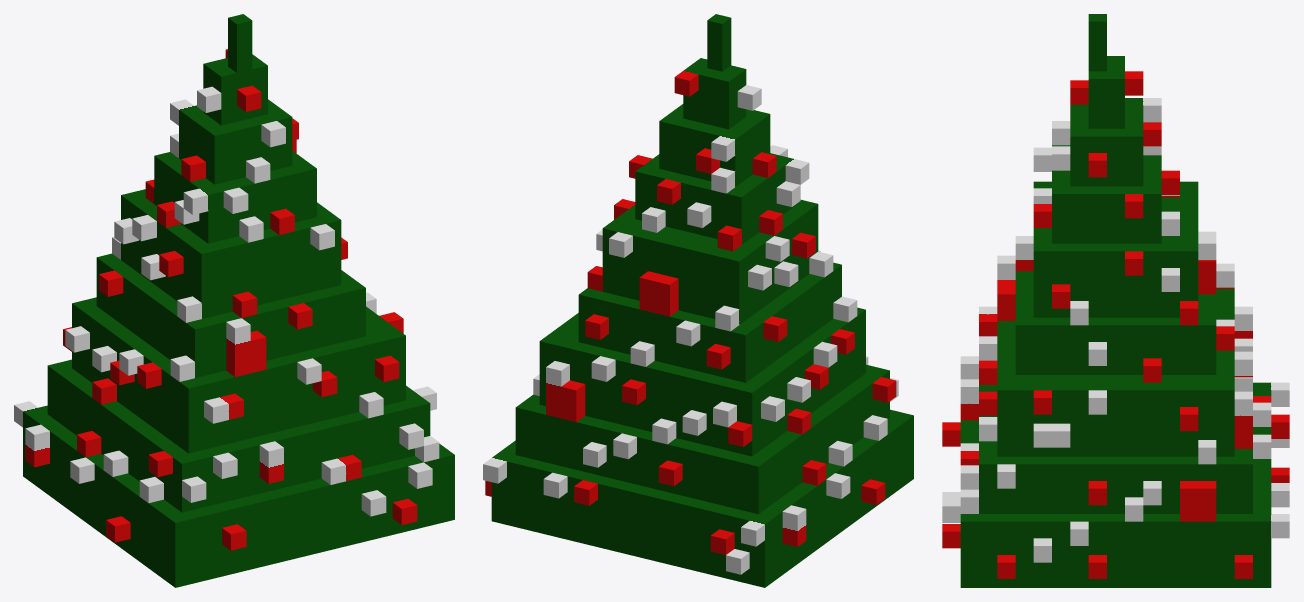
The model's file is obj_christmas1.fbx.
3 views of the same model, side by side, from view 1: azimuth 30°, elevation 25°; view 2: azimuth 150°, elevation 25°; view 3: azimuth 270°, elevation 25° (orthographic). The views are drawn at different scales.
Parts seen in each view (by area): view 1: obj_christmas1; view 2: obj_christmas1; view 3: obj_christmas1.
Boxes of the visible parts, <box> form: obj_christmas1: <box>14,14,454,587</box>; obj_christmas1: <box>483,14,913,587</box>; obj_christmas1: <box>942,14,1289,587</box>.
Size of the model in its own units: 2 by 1.9 by 3.
1 material, 1 textured.
